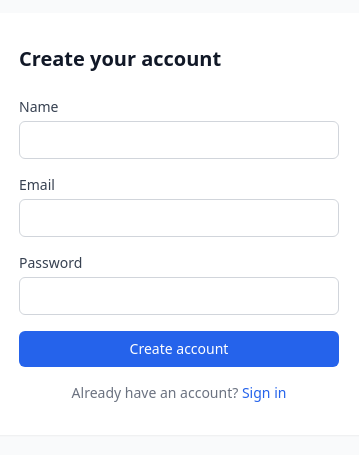
RegisterScreen › clears a field error as soon as that field is edited
The width and height of the screenshot is (359, 455).
Click the button "Create account" at [179, 349], box top-left (19, 331), bottom-right (339, 367)
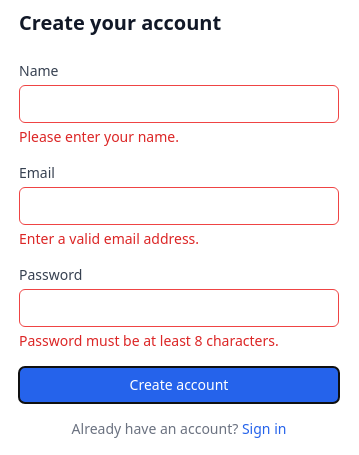
Expected: the text "Please enter your name." is shown, top-left (19, 127), bottom-right (179, 146)
Type "A" into the field labelled "Name" at [179, 104], box top-left (19, 85), bottom-right (339, 123)
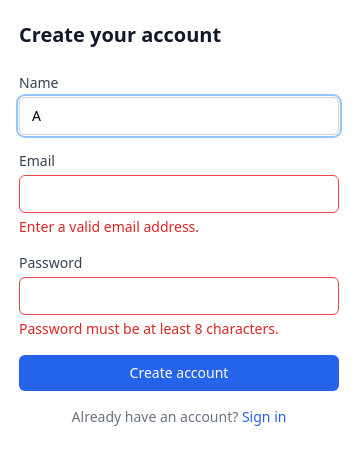
Expected: the text "enter your name" is gone
